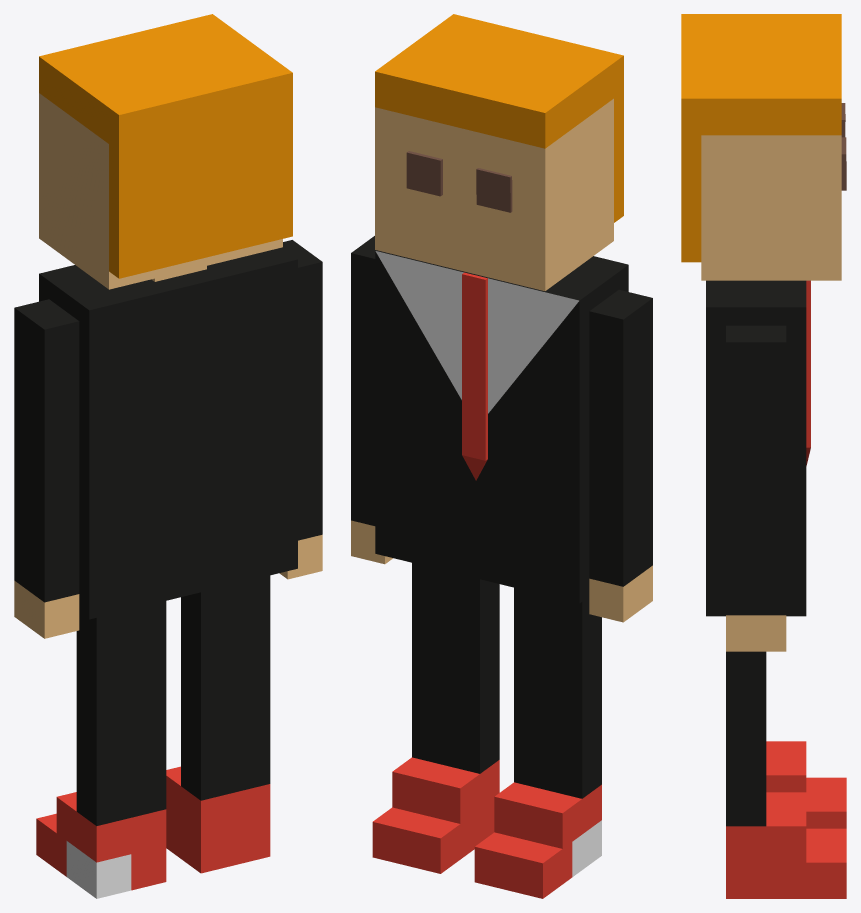
File: guy.glb
The picture shows the model from 3 angles, left to right: view 1: azimuth 30°, elevation 25°; view 2: azimuth 150°, elevation 25°; view 3: azimuth 270°, elevation 25°; orthographic projection. The views are drawn at different scales.
Parts seen in each view (by area): view 1: group260012466; view 2: group260012466, group568619774; view 3: group260012466, group568619774.
Boxes of the visible parts, left/top/right/bottom form: group260012466: left=14, top=14, right=322, bottom=898; group260012466: left=351, top=14, right=652, bottom=898; group568619774: left=462, top=272, right=487, bottom=480; group260012466: left=681, top=14, right=846, bottom=898; group568619774: left=806, top=280, right=810, bottom=465.
Size of the model in its own units: 0.3467 by 0.9533 by 0.1788.
